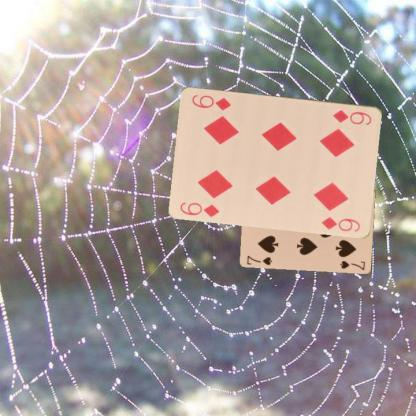6d: (330, 107, 373, 126), (177, 200, 221, 218)
7s: (244, 253, 274, 266)
